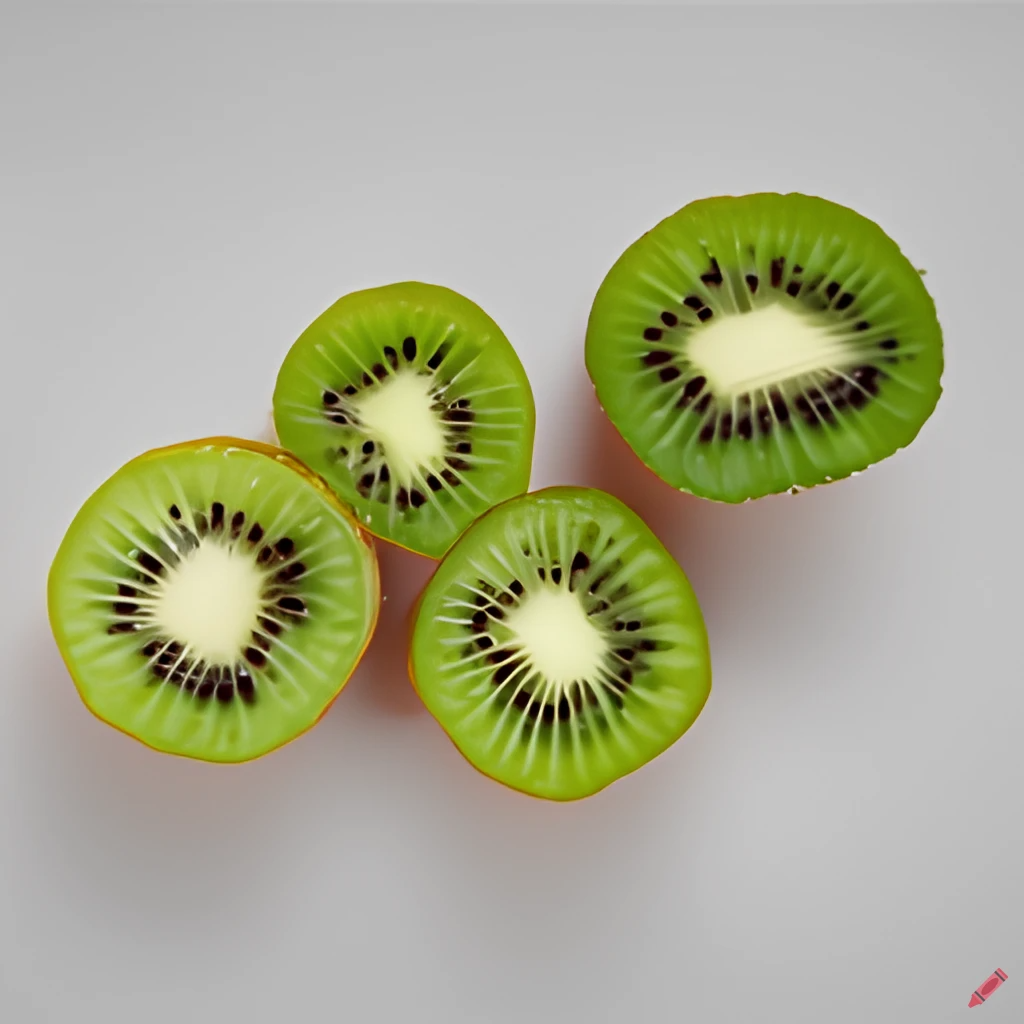Kiwi: (379, 466, 748, 796)
